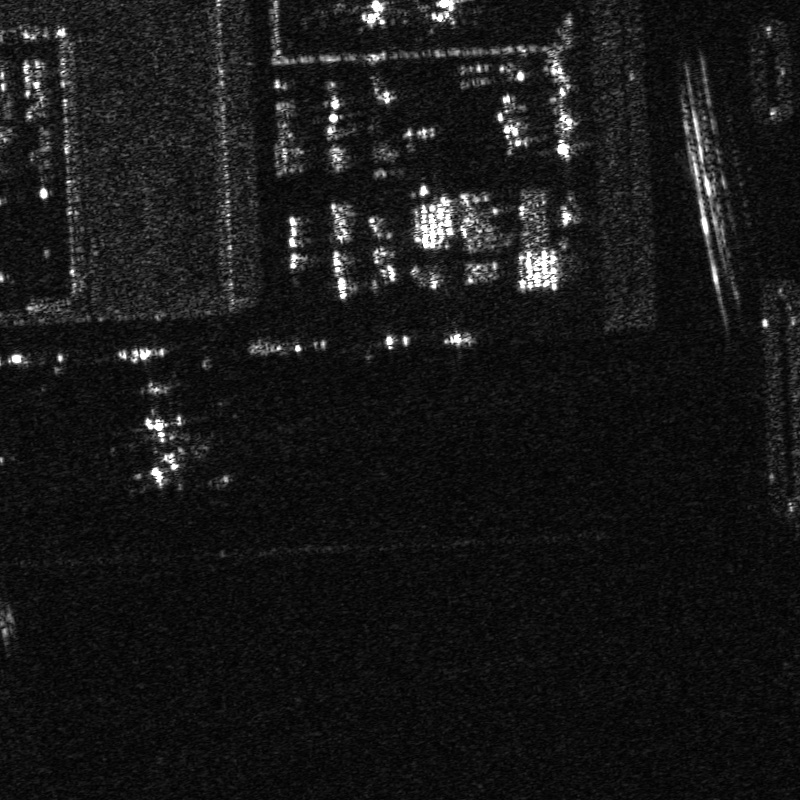ARJ21: (342, 1, 407, 36)
other: (120, 407, 215, 497)
